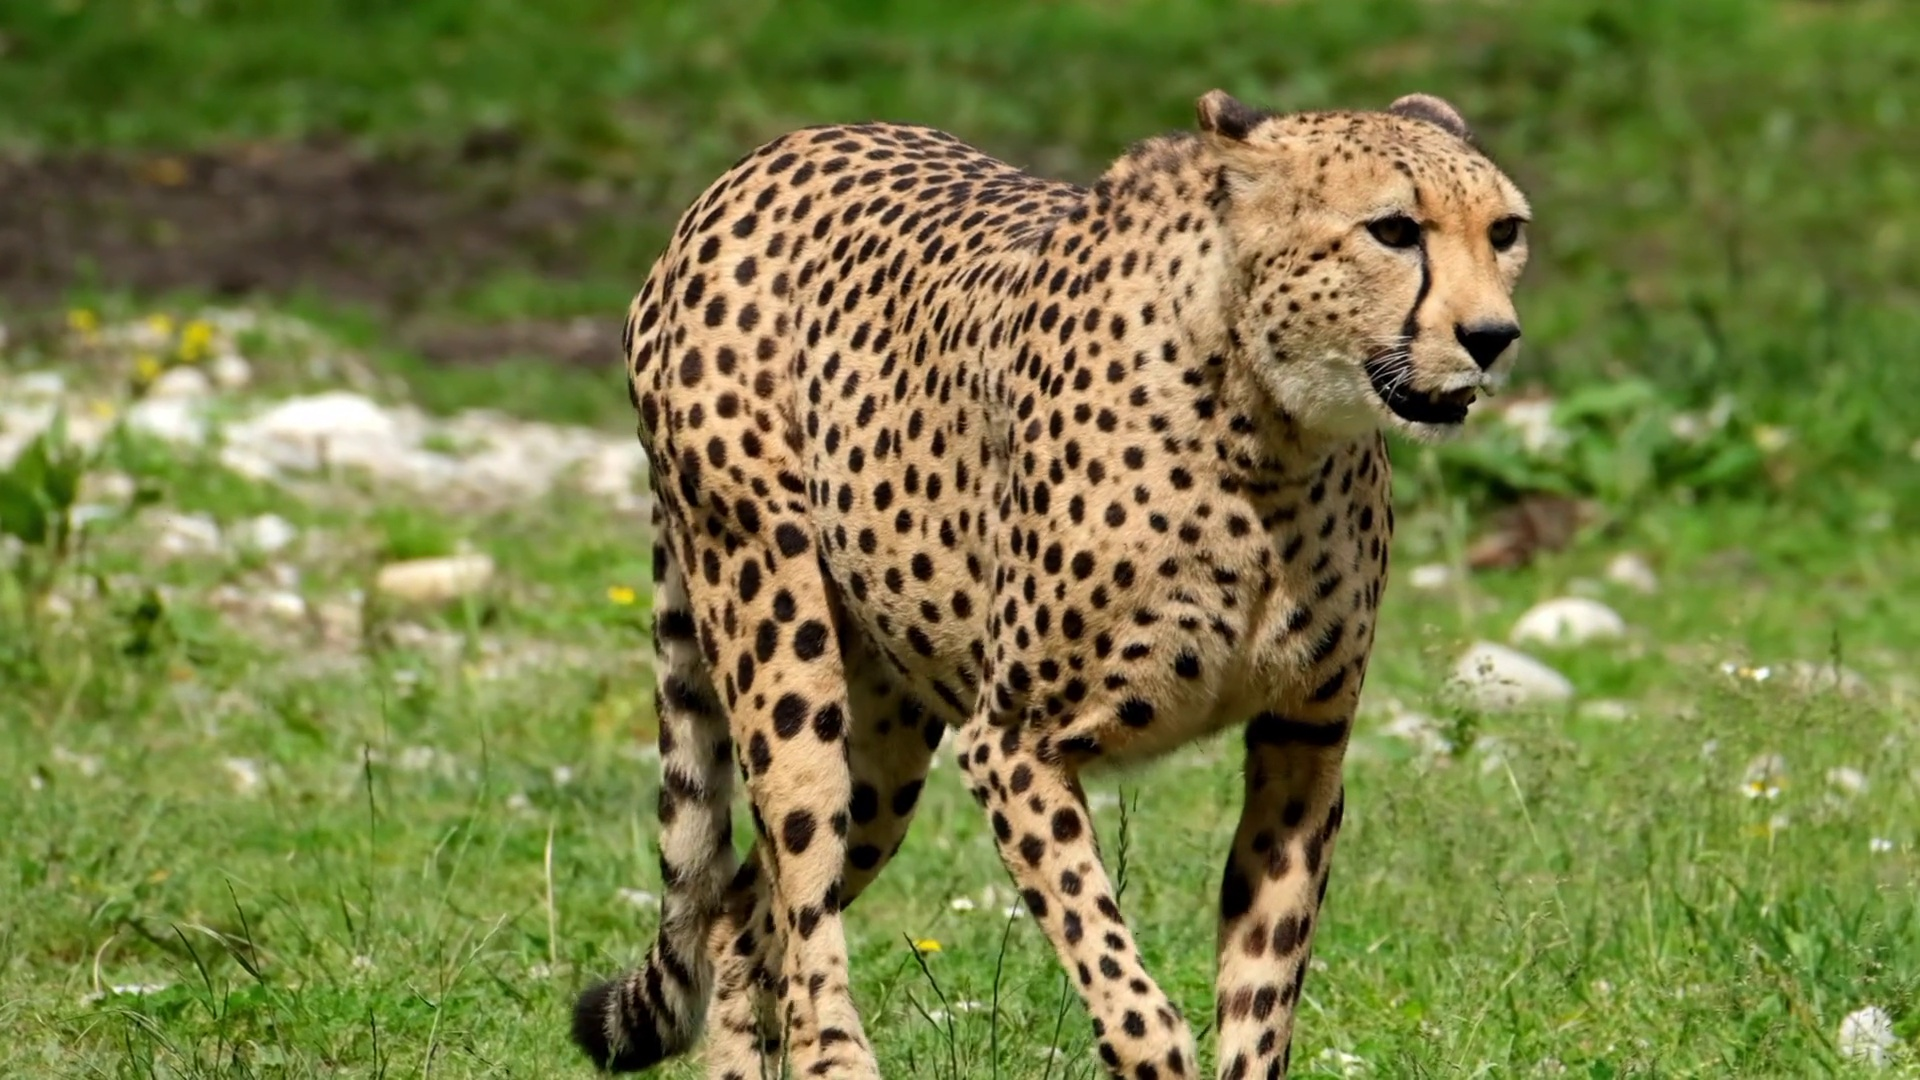Cheetah: (566, 82, 1536, 1080)
